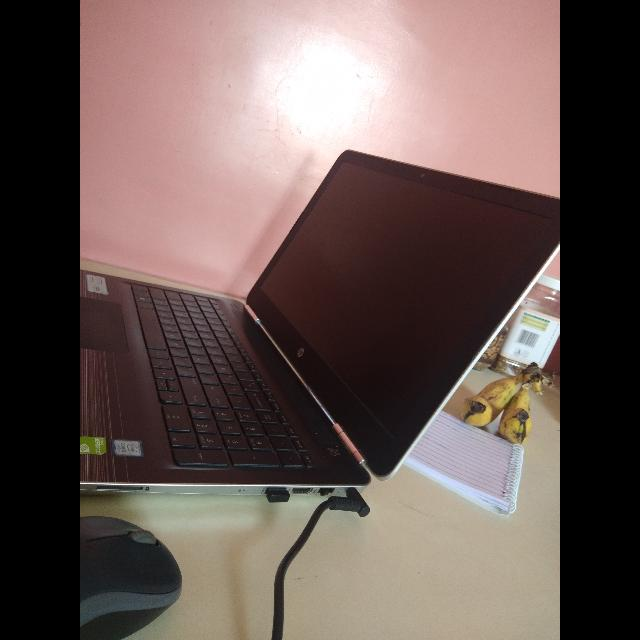Laptop: (80, 139, 560, 527)
